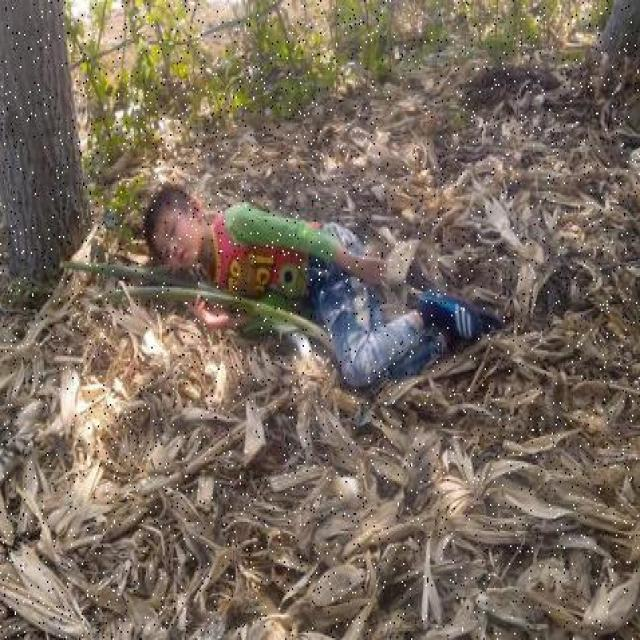fall: (148, 182, 480, 370)
